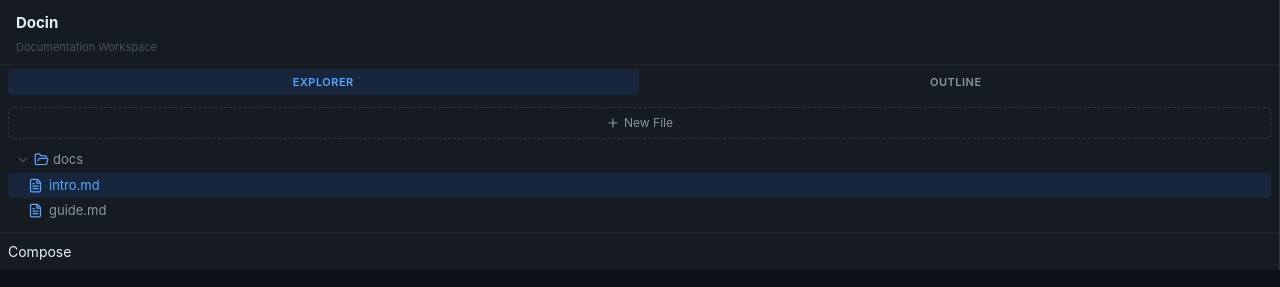
Test: SidebarTabs › tab switching works between Files and Outline
The image size is (1280, 287).
Click the button "Outline" at (956, 82), box top-left (640, 68), bottom-right (1271, 95)
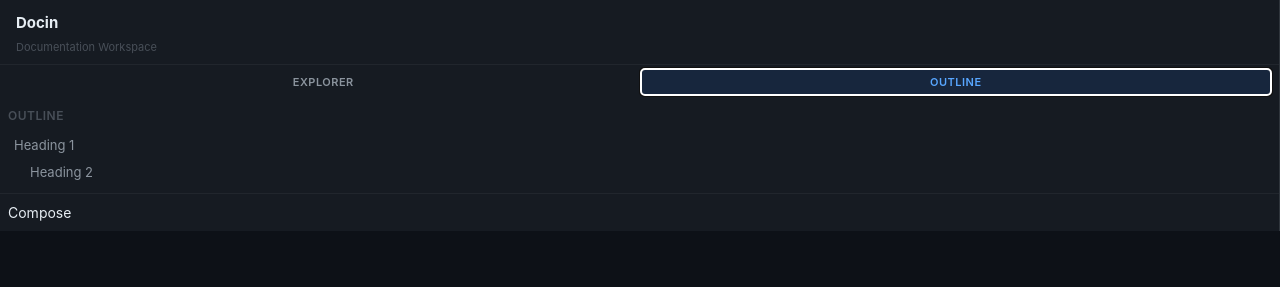
Click the button "Explorer" at (323, 82), box top-left (8, 68), bottom-right (638, 95)
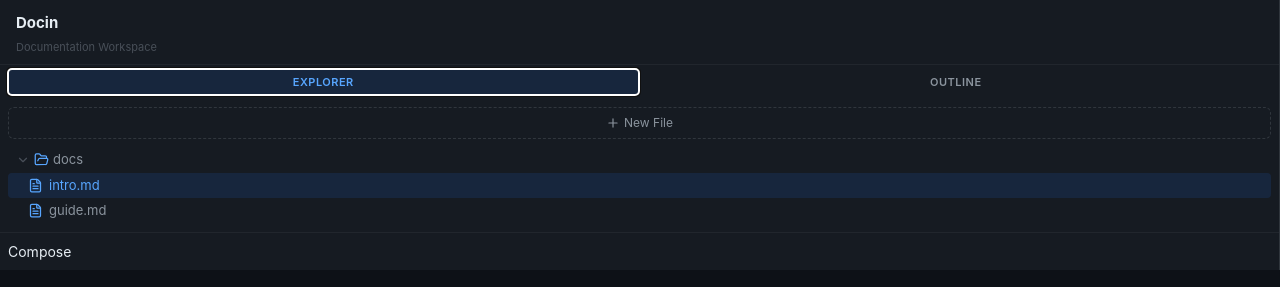
Expected: the text "intro.md" is shown, top-left (49, 176), bottom-right (100, 195)
